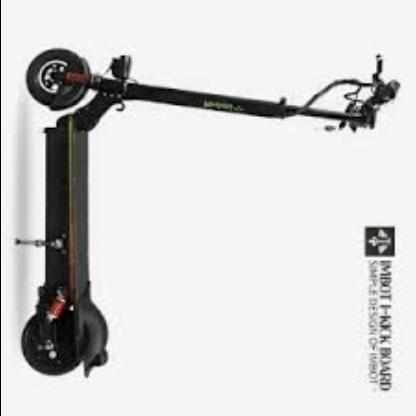bike: (22, 42, 415, 393)
